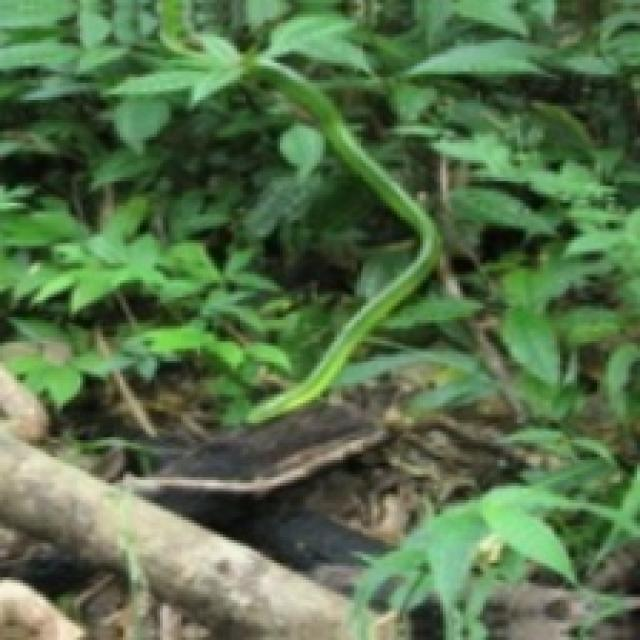red-tailed green ratsnake: (240, 54, 437, 420)
